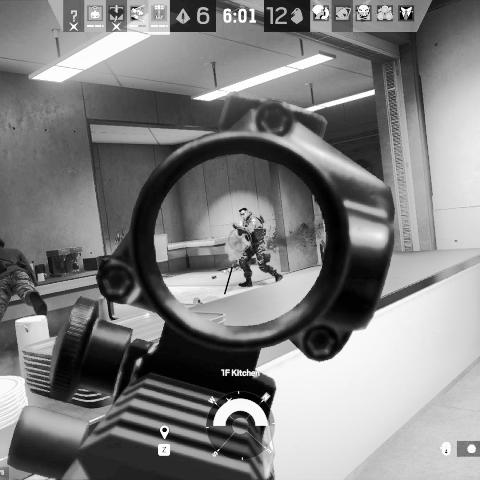Character: (230, 206, 284, 287), (0, 238, 51, 322)
Head: (239, 206, 251, 221)
